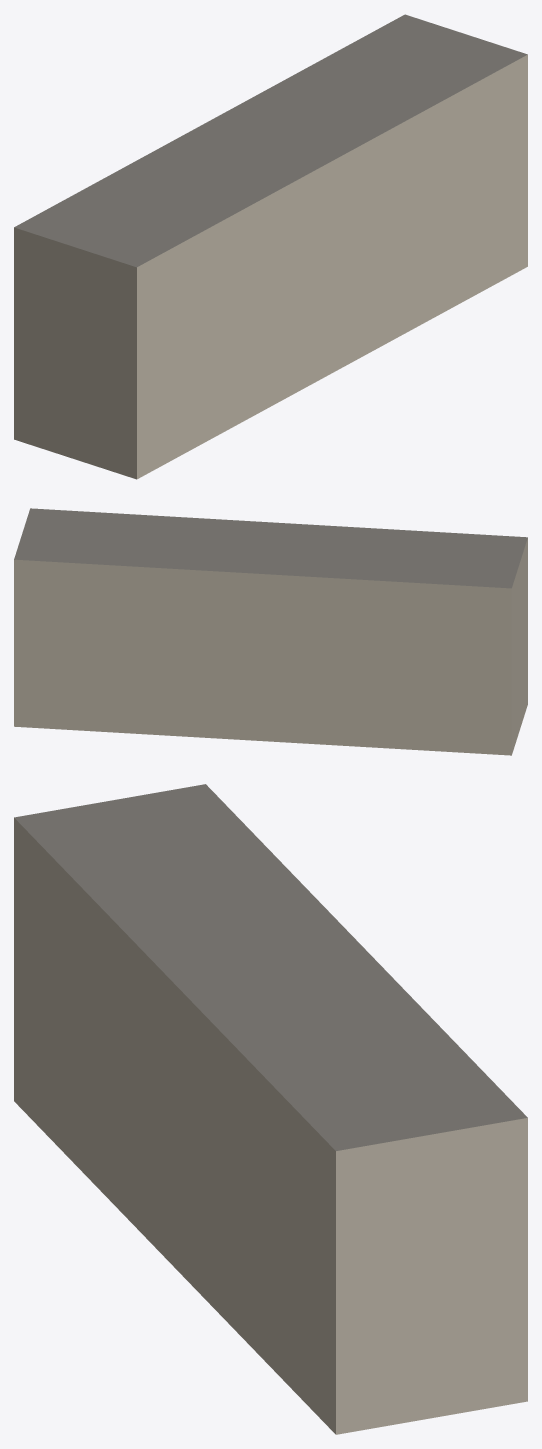
The picture shows the model from 3 angles, top to bottom: view 1: azimuth 30°, elevation 25°; view 2: azimuth 150°, elevation 25°; view 3: azimuth 270°, elevation 25°; orthographic projection. The views are drawn at different scales.
Parts seen in each view (by area): view 1: HP-w380339921; view 2: HP-w380339921; view 3: HP-w380339921.
Boxes of the visible parts, bbox=[...] form: HP-w380339921: bbox=[14, 14, 527, 479]; HP-w380339921: bbox=[14, 508, 527, 755]; HP-w380339921: bbox=[14, 784, 527, 1434].
Bounding box in the file's own units: 49.96 × 18 × 29.56.
